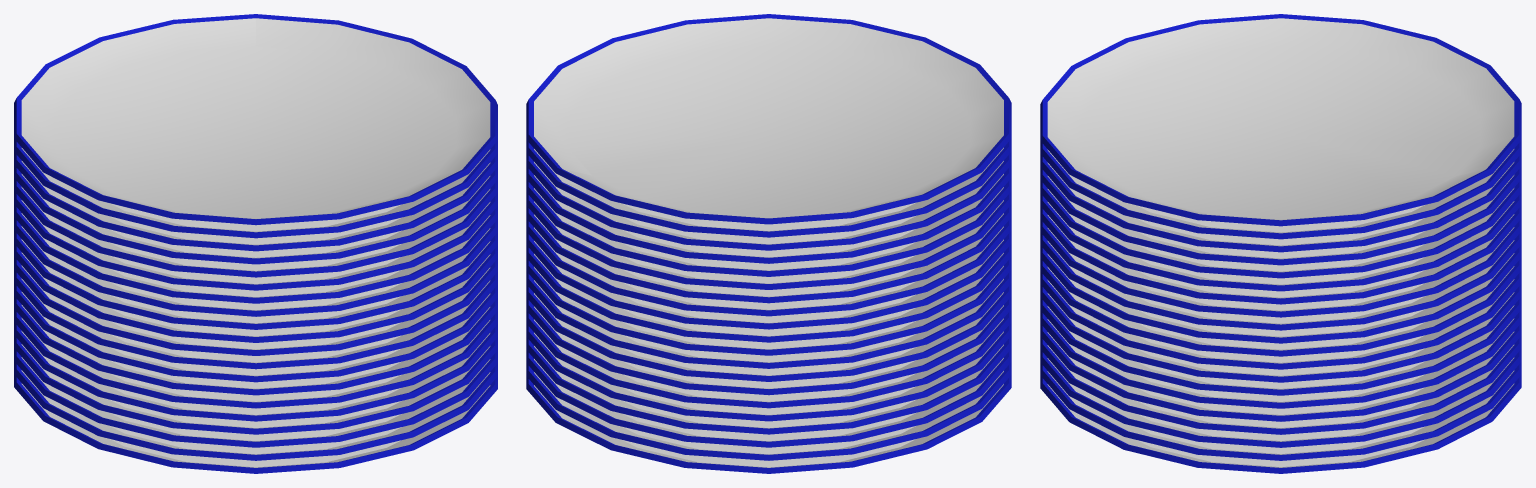
File: Dish_V1_20PC.fbx
3 views of the same model, side by side, from view 1: azimuth 30°, elevation 25°; view 2: azimuth 150°, elevation 25°; view 3: azimuth 270°, elevation 25° (orthographic).
Parts seen in each view (by area): view 1: Dish_V1_20Pile; view 2: Dish_V1_20Pile; view 3: Dish_V1_20Pile.
Boxes of the visible parts, bbox=[...] form: Dish_V1_20Pile: bbox=[14, 14, 497, 473]; Dish_V1_20Pile: bbox=[526, 14, 1011, 473]; Dish_V1_20Pile: bbox=[1040, 14, 1521, 473].
Bounding box in the file's own units: 44.9 × 27.42 × 44.22.
